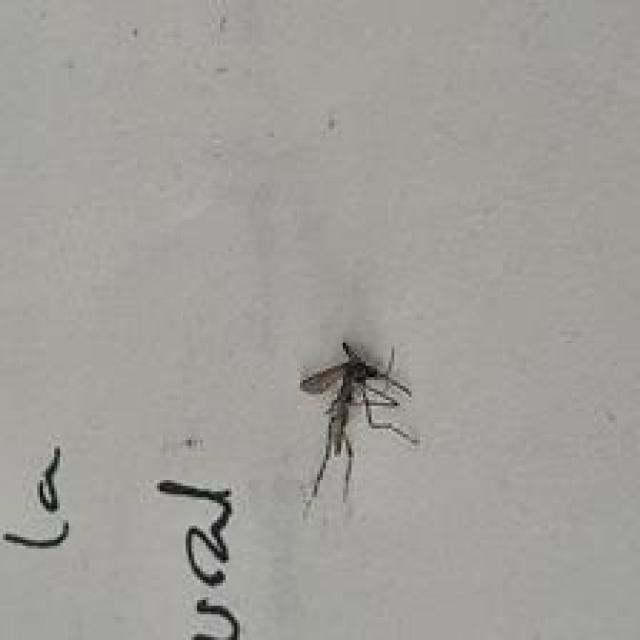Aedes albopictus: (297, 340, 420, 517)
